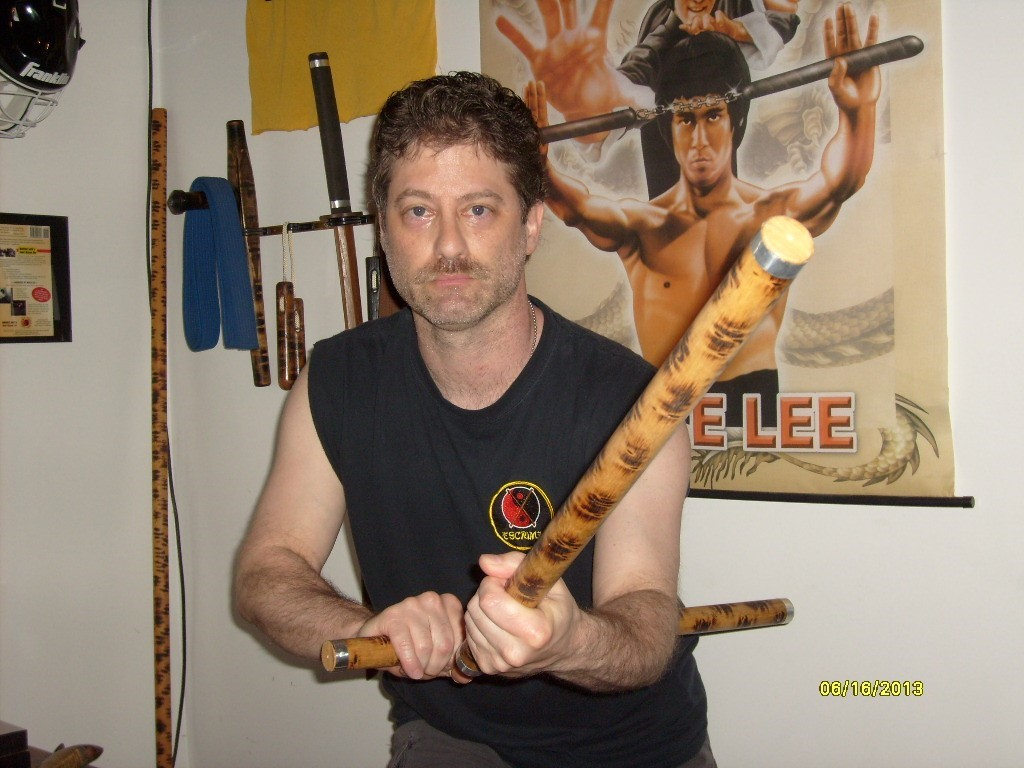baston_e: (536, 229, 757, 605), (346, 597, 778, 677)
baston_v: (725, 206, 820, 318), (318, 629, 386, 679), (763, 590, 801, 630)
